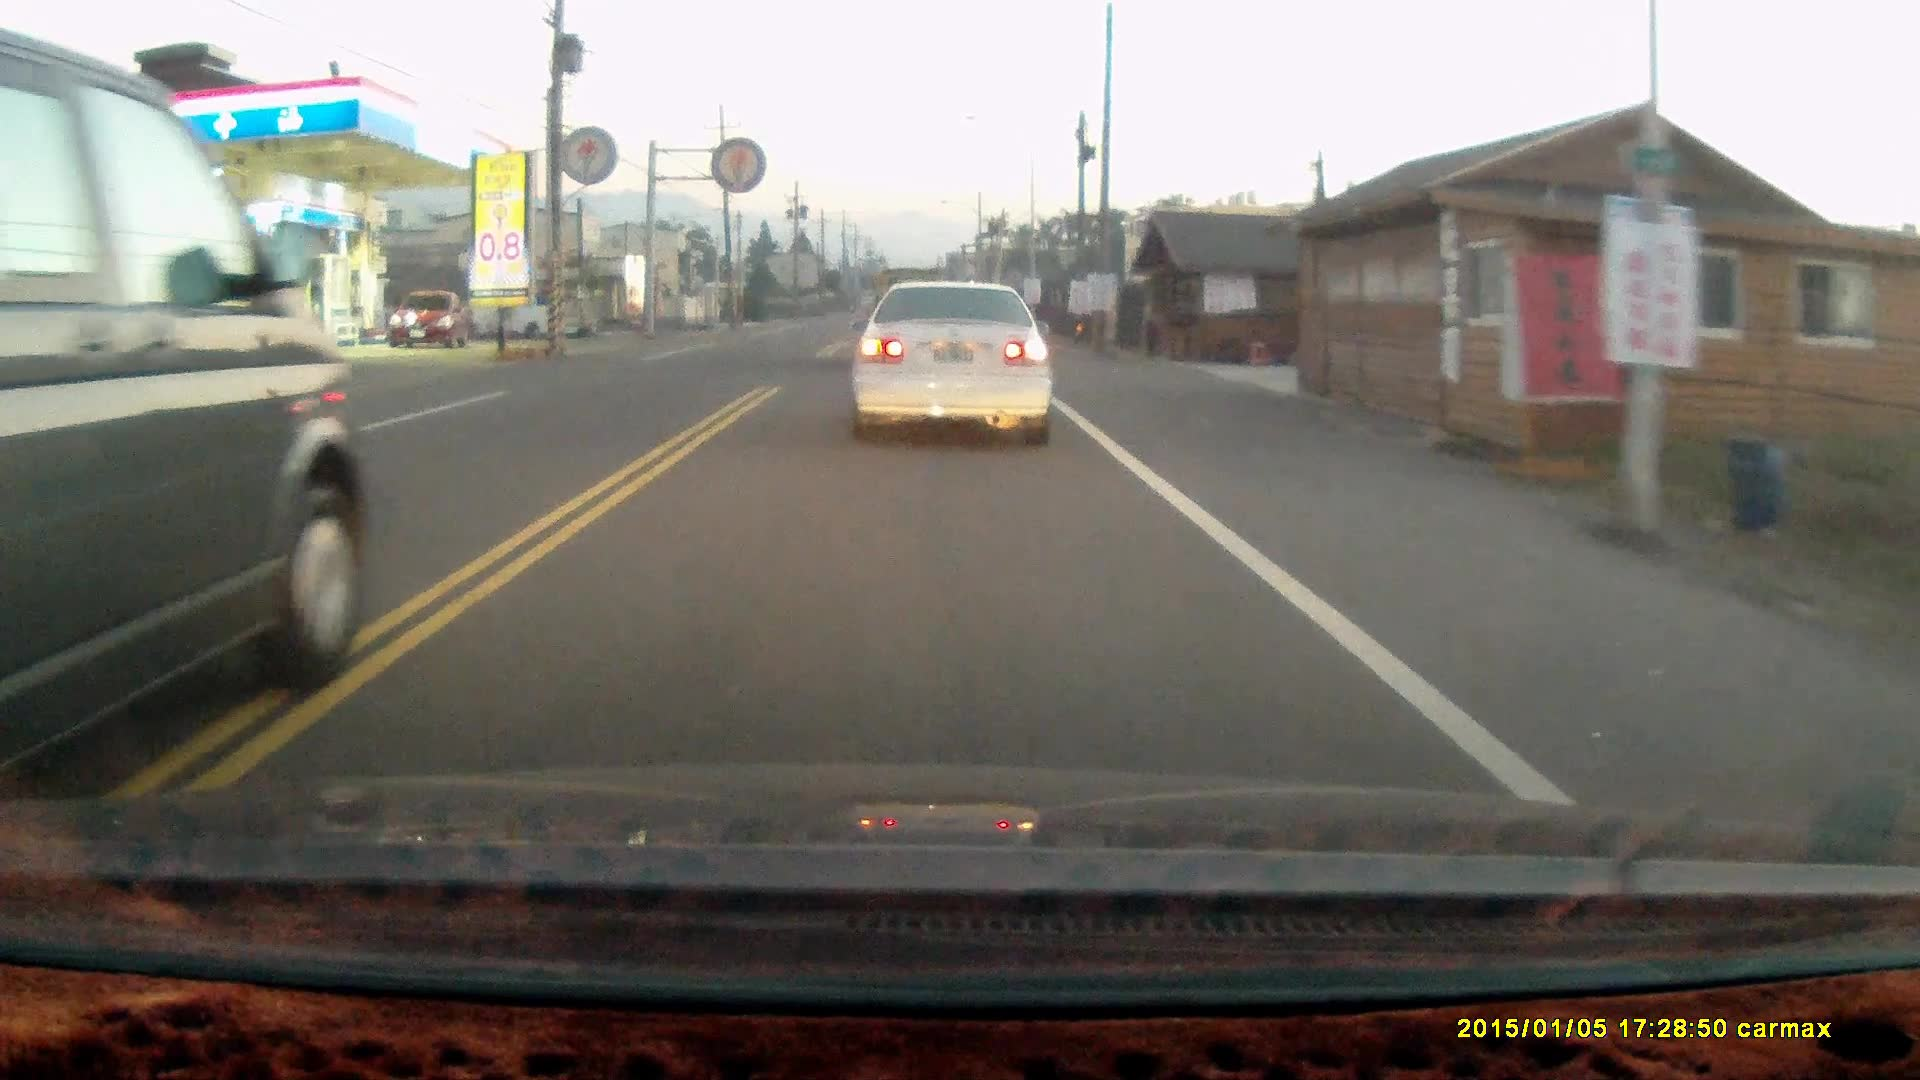vehicle: (1, 25, 361, 790), (848, 280, 1058, 458), (385, 291, 467, 345)
